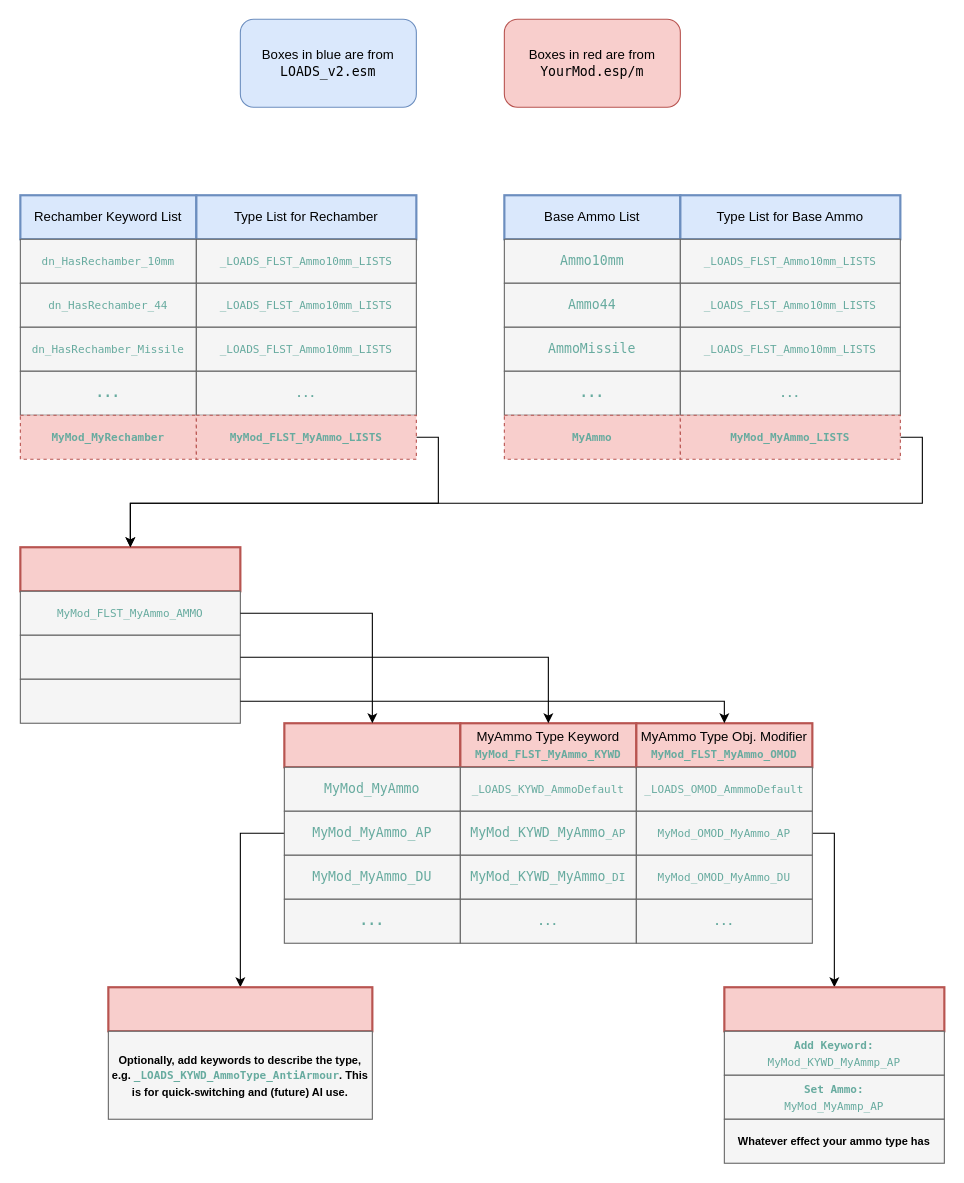
Image size: 964x1183. Some labels were removed from this diagram. The shapes that lost their labels are listed below. From the top down, each one's centre as x and y in pixels, then its label:
the point at 130,569: MyAmmo Type Lists MyMod_FLST_MyAmmo_LISTS
the point at 129,656: MyMod_FLST_MyAmmo_KYWD
the point at 129,700: MyMod_FLST_MyAmmo_OMOD
the point at 372,745: MyAmmo Type Ammo MyMod_FLST_MyAmmo_AMMO
the point at 240,1009: MyAmmo AP Ammo MyMod_MyAmmo
the point at 834,1009: MyAmmo AP Type Equipped MyMod_OMOD_MyAmmo_AP
